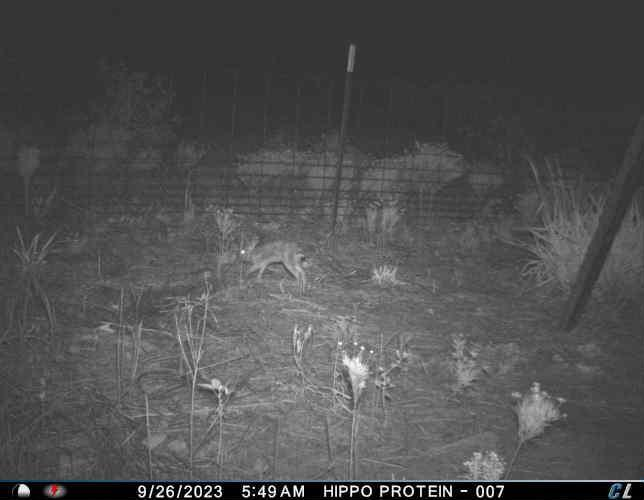Rabbit: (234, 234, 308, 290)
